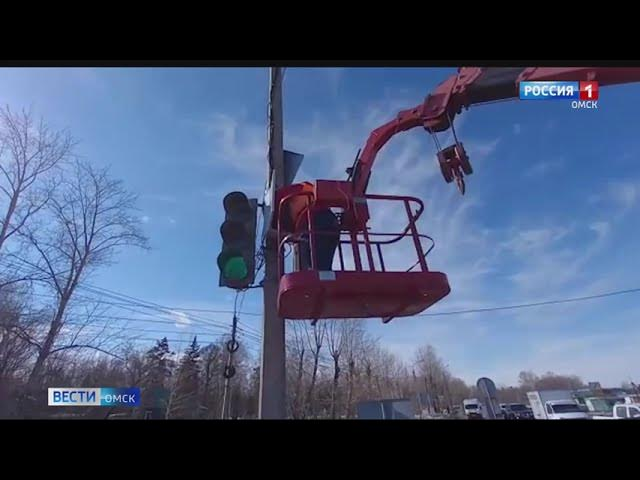tl: (215, 191, 258, 290)
